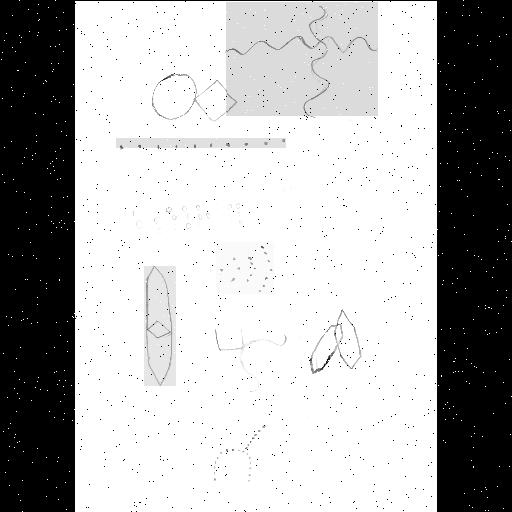shape-1: (150, 72, 234, 122)
shape-2: (116, 138, 286, 148)
shape-3: (134, 201, 244, 239)
shape-4: (216, 242, 274, 294)
shape-5: (214, 326, 286, 392)
shape-6: (214, 423, 266, 483)
shape-7: (226, 2, 378, 116)
shape-8: (311, 309, 361, 375)
shape-9: (144, 266, 176, 386)
